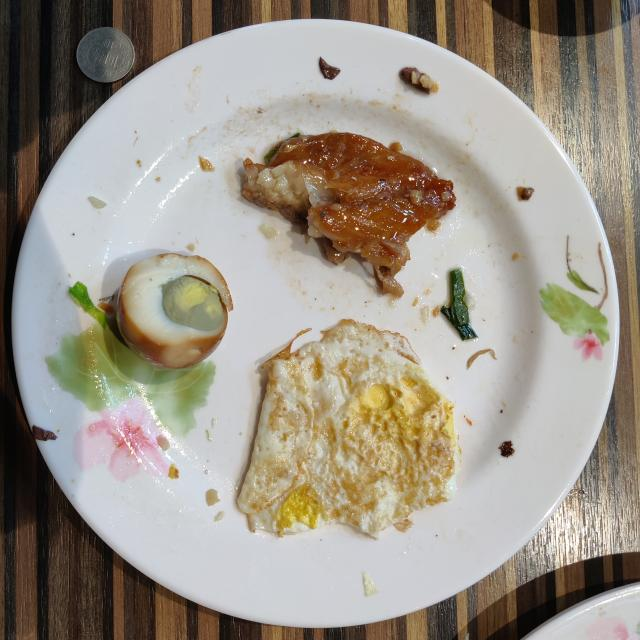Kabayaki sea bream fillet: (242, 132, 455, 296)
coin: (76, 28, 135, 82)
soy egg: (118, 254, 232, 369)
